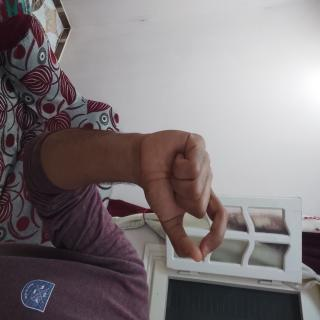FAA: (92, 121, 198, 248)
